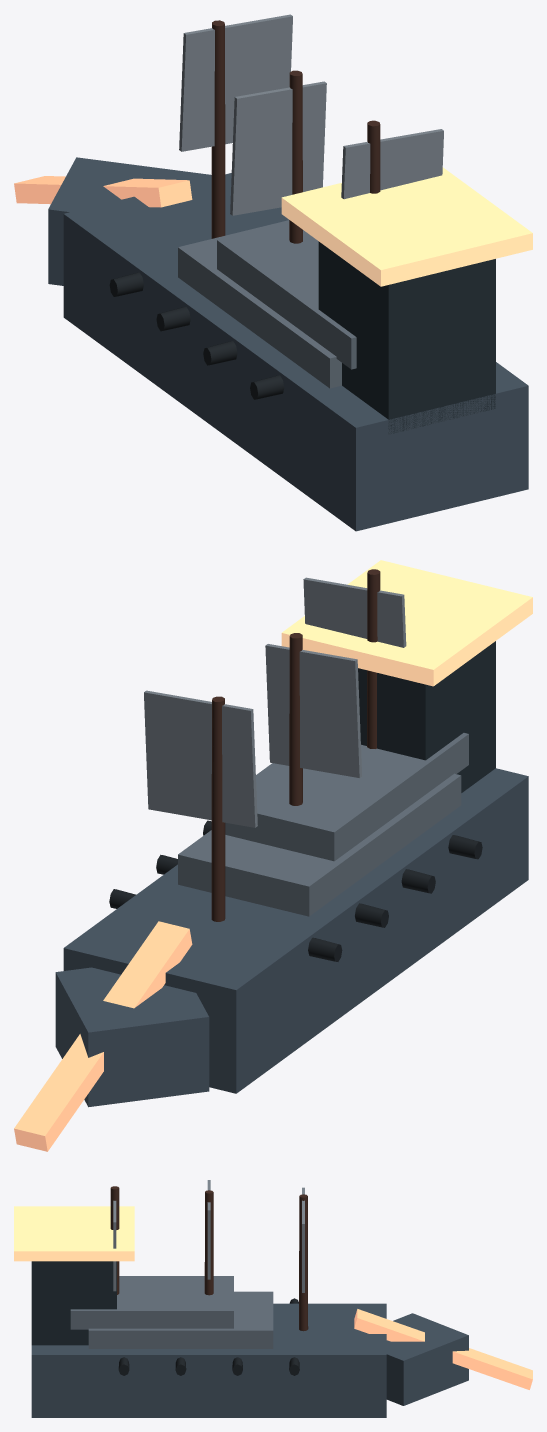
The model's file is ship_main_57.glb.
3 views of the same model, one above another, from view 1: azimuth 30°, elevation 25°; view 2: azimuth 150°, elevation 25°; view 3: azimuth 270°, elevation 25° (orthographic). The views are drawn at different scales.
Visible parts, largest first — view 1: Hull, SternTower, TowerCap, Sail_1, Sail_0, Deck_1, Deck_0, Bow, Sail_2, ProwIdentity, Mast_0, Mast_1 (+5 smaller); view 2: Hull, Bow, Deck_1, TowerCap, Deck_0, Sail_0, SternTower, Sail_1, ProwIdentity, Sail_2, Mast_0, Mast_1 (+1 smaller); view 3: Hull, Deck_1, TowerCap, SternTower, Deck_0, Bow, ProwIdentity, Mast_0, Mast_1, Mast_2, Sail_1, Sail_2 (+1 smaller).
Part boxes in pixels (left/top/right/bottom): Hull: left=63, top=173, right=528, bottom=531; SternTower: left=318, top=241, right=495, bottom=433; TowerCap: left=281, top=167, right=532, bottom=286; Sail_1: left=230, top=81, right=326, bottom=215; Sail_0: left=179, top=14, right=292, bottom=151; Deck_1: left=217, top=222, right=356, bottom=369; Deck_0: left=178, top=220, right=341, bottom=388; Bow: left=48, top=157, right=211, bottom=285; Sail_2: left=341, top=129, right=443, bottom=199; ProwIdentity: left=14, top=176, right=192, bottom=207; Mast_0: left=211, top=20, right=225, bottom=238; Mast_1: left=289, top=70, right=302, bottom=243; Hull: left=63, top=768, right=528, bottom=1093; Bow: left=55, top=967, right=209, bottom=1107; Deck_1: left=225, top=733, right=468, bottom=861; TowerCap: left=281, top=560, right=532, bottom=686; Deck_0: left=178, top=773, right=461, bottom=916; Sail_0: left=144, top=690, right=257, bottom=827; SternTower: left=358, top=641, right=495, bottom=792; Sail_1: left=265, top=644, right=361, bottom=777; ProwIdentity: left=14, top=921, right=192, bottom=1151; Sail_2: left=303, top=577, right=406, bottom=647; Mast_0: left=211, top=696, right=225, bottom=921; Mast_1: left=289, top=633, right=302, bottom=805; Hull: left=31, top=1303, right=386, bottom=1417; Deck_1: left=70, top=1276, right=233, bottom=1329; TowerCap: left=14, top=1206, right=134, bottom=1261; SternTower: left=31, top=1261, right=116, bottom=1345; Deck_0: left=88, top=1291, right=273, bottom=1348; Bow: left=386, top=1313, right=468, bottom=1405; ProwIdentity: left=354, top=1309, right=532, bottom=1389; Mast_0: left=299, top=1194, right=308, bottom=1331; Mast_1: left=204, top=1190, right=213, bottom=1295; Mast_2: left=110, top=1186, right=119, bottom=1294; Sail_1: left=207, top=1180, right=210, bottom=1279; Sail_2: left=113, top=1200, right=116, bottom=1291.
Bounding box in the file's own units: 2.81 × 4.03 × 9.26.
